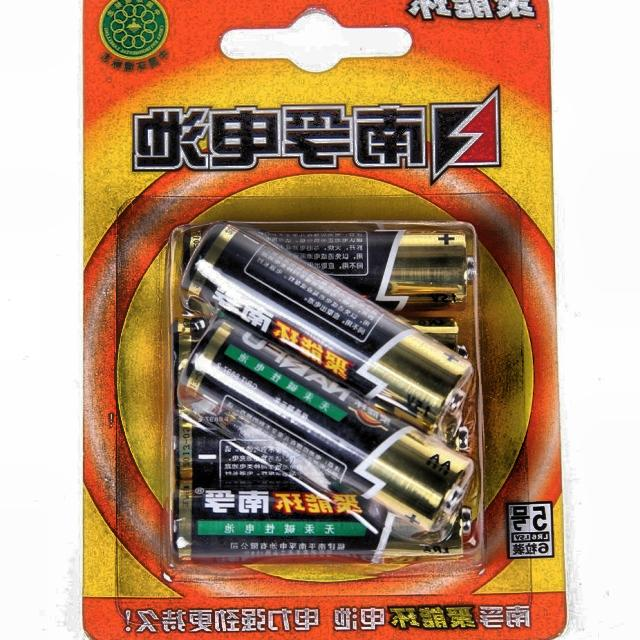Non-Valuable Waste - Batteries: (170, 223, 477, 561)
